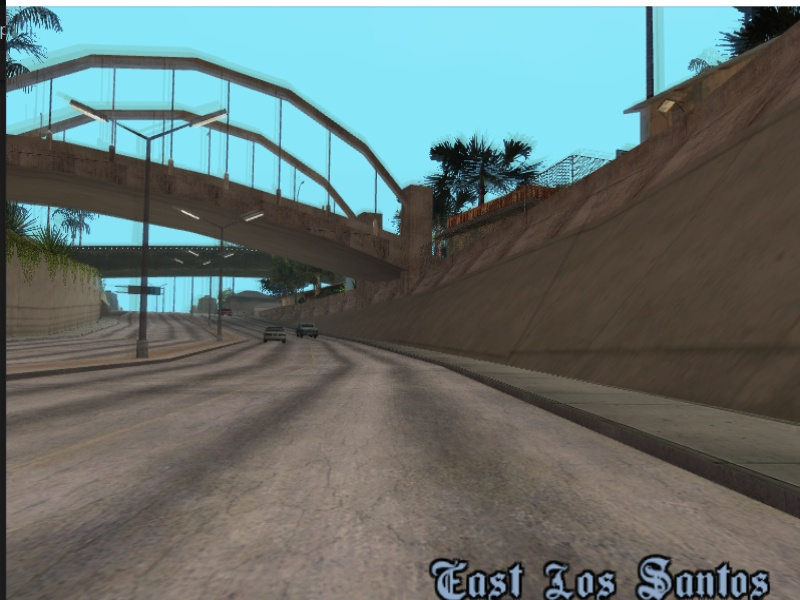pole: (131, 138, 155, 363), (210, 227, 232, 346)
vehicle: (297, 322, 319, 340), (264, 325, 285, 343), (220, 309, 231, 316)
